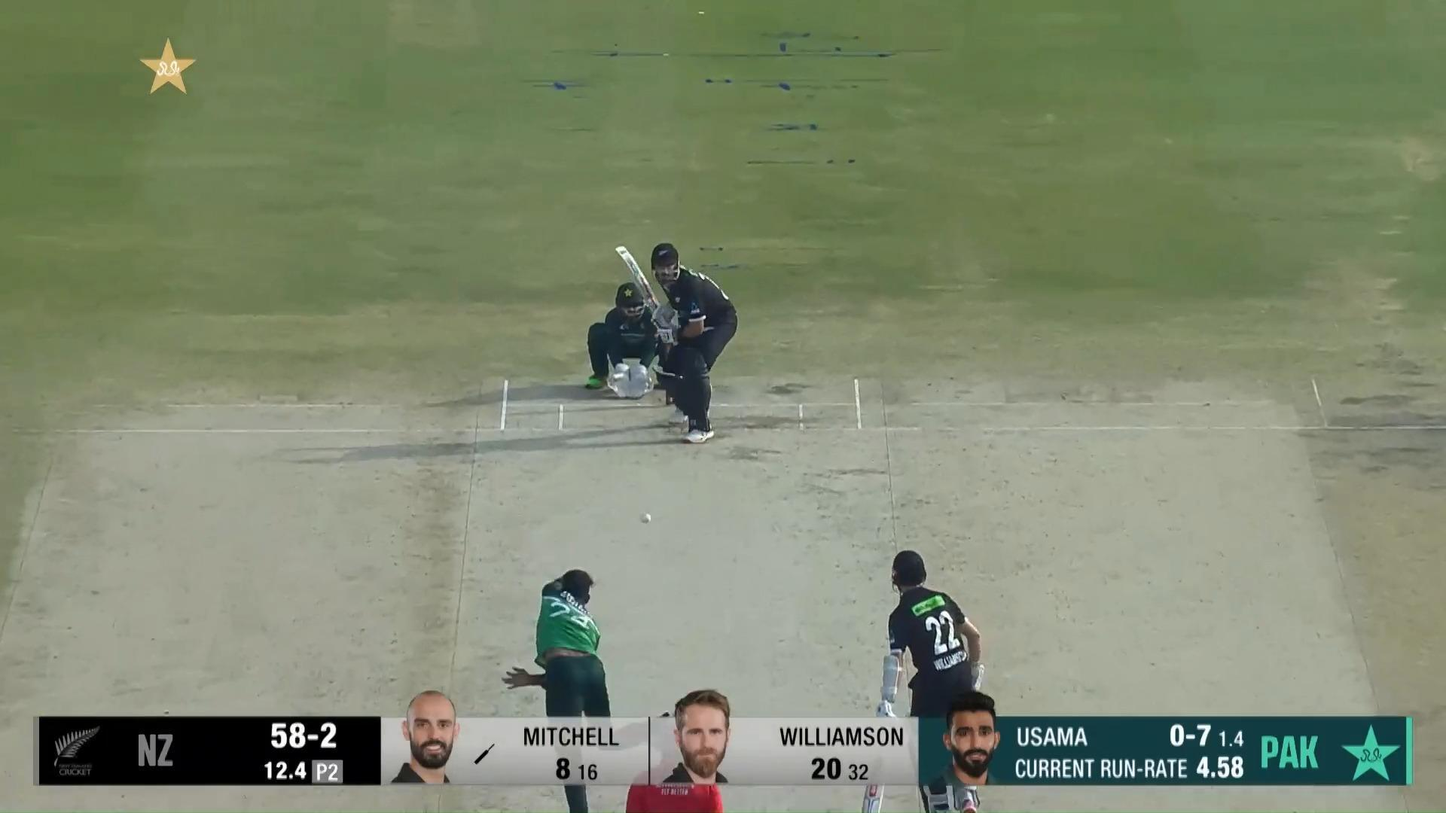BM 1: (615, 242, 738, 443)
BO: (501, 568, 614, 813)
